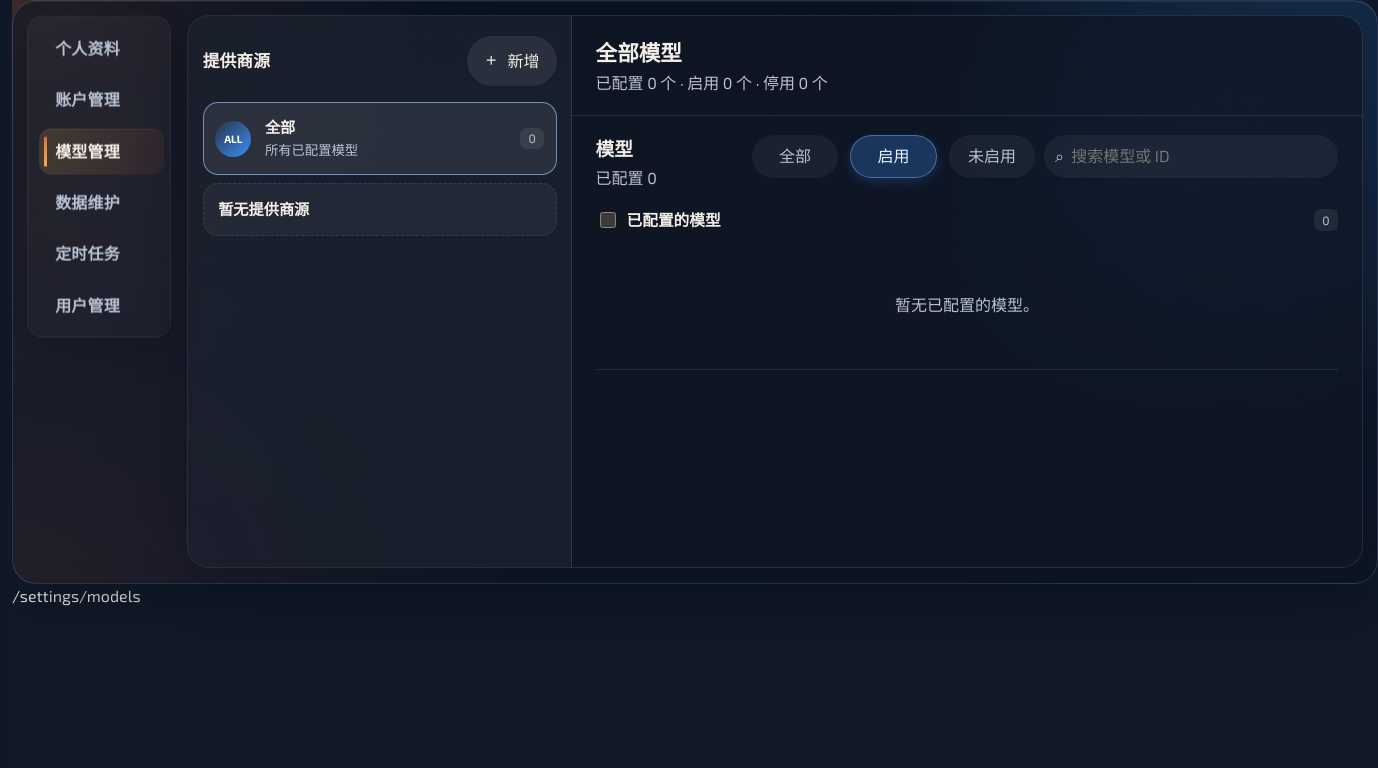
Test: SettingsPage model management view switch › shows an empty provider source state when no source has been added
Check: the text "暂无提供商源" is shown, box [218,200,309,218]
Check: the heading "全部模型" is shown, box [596,38,682,64]
What coordinates should you click on to do the following:
click the button "新增"
I would click on:
 (512, 61)
Its box is [467,36,557,86].
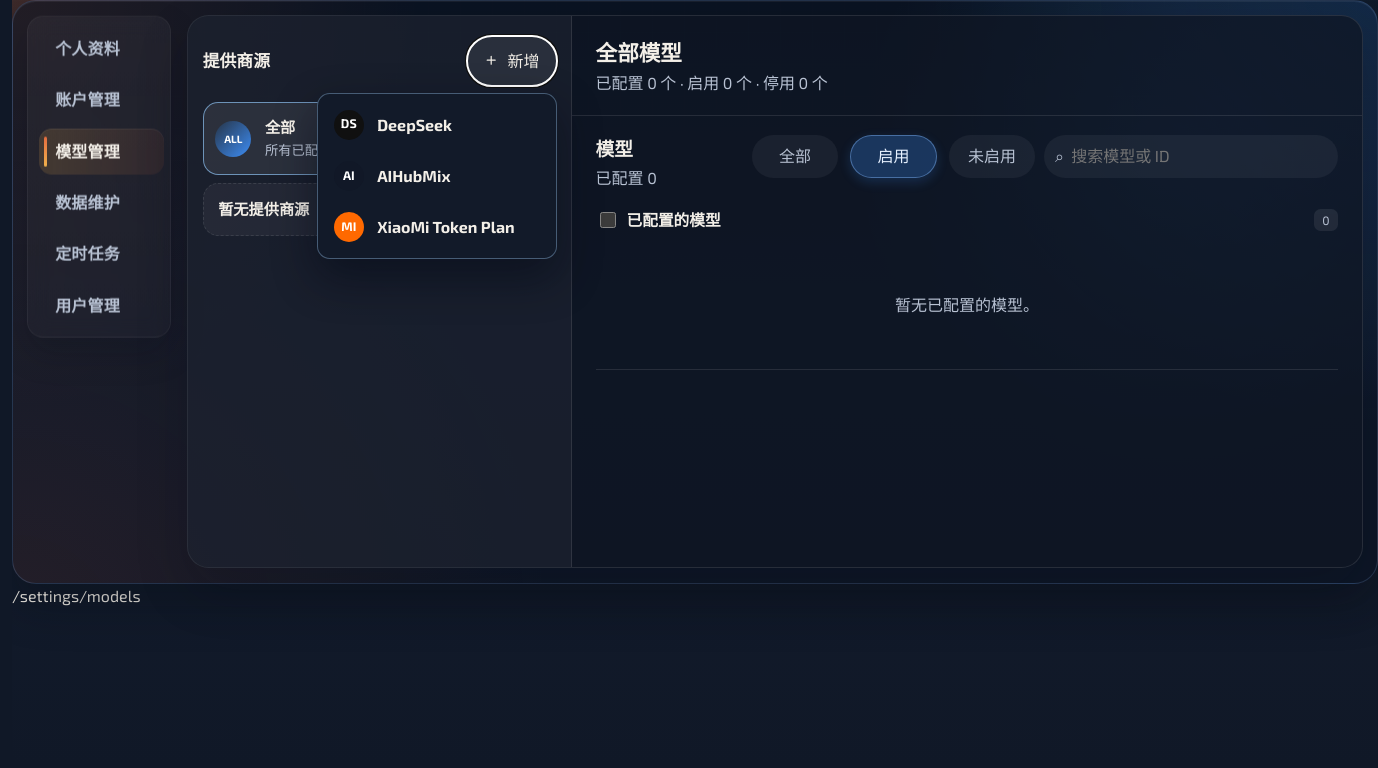
Check: the menu item "DS DeepSeek" is shown, box [325,101,549,148]
Check: the menu item "AI AIHubMix" is shown, box [325,152,549,200]
Check: the menu item "MI XiaoMi Token Plan" is shown, box [325,204,549,251]
